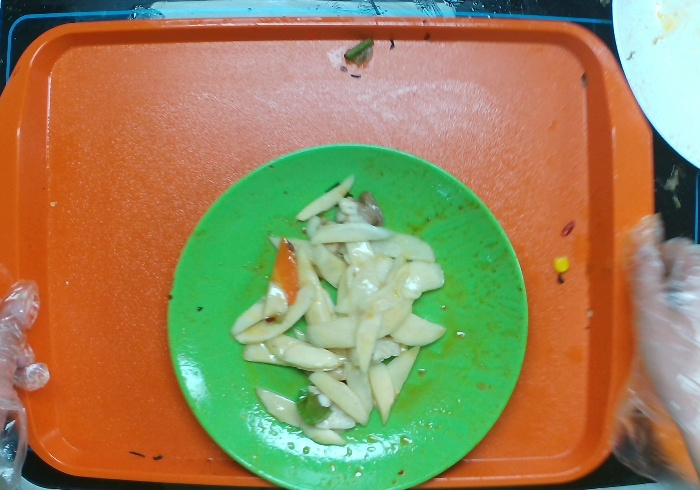HZYJPL-Lv_Se_Yuan_Pan: (166, 141, 524, 490)
